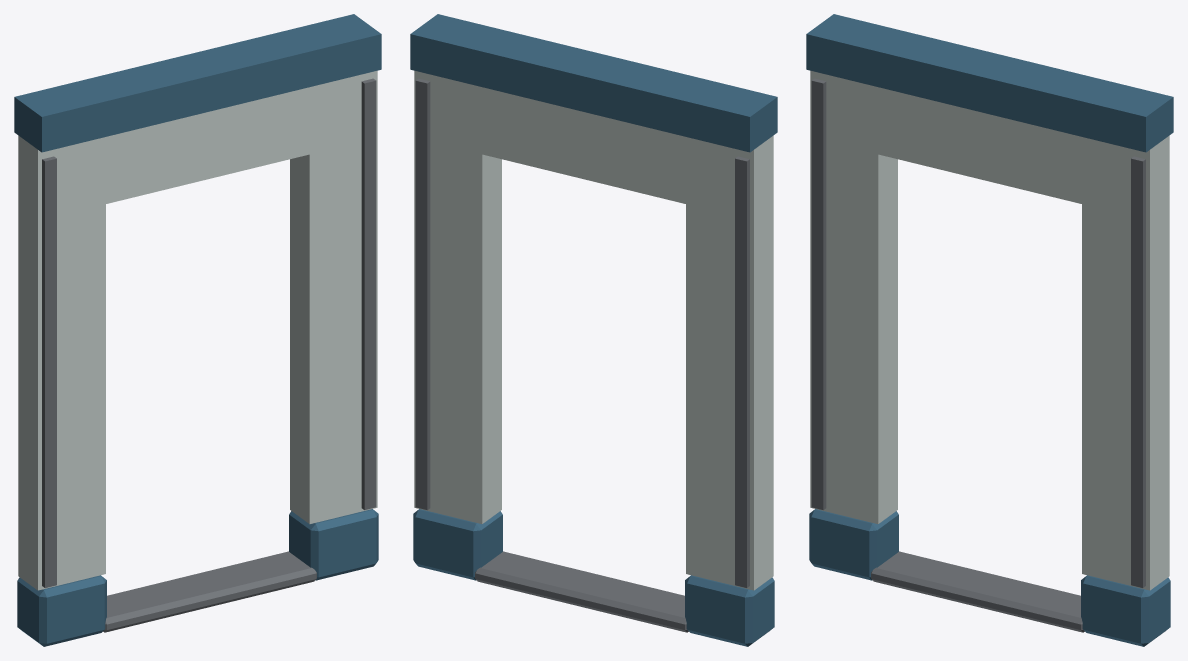
Rendered from installation-sensor-wall-door.glb.
The picture shows the model from 3 angles, left to right: view 1: azimuth 30°, elevation 25°; view 2: azimuth 150°, elevation 25°; view 3: azimuth 330°, elevation 25°; orthographic projection.
Parts seen in each view (by area): view 1: jamb_l, jamb_r, cornice, lintel, threshold, panel_joint.002, panel_joint, plinth_l, plinth_r; view 2: jamb_l, jamb_r, cornice, lintel, threshold, panel_joint.003, panel_joint.001, plinth_l, plinth_r; view 3: jamb_r, jamb_l, cornice, lintel, threshold, panel_joint, panel_joint.002, plinth_r, plinth_l.
Part boxes in pixels (x1,y1,x2,y2): jamb_l: (18, 135, 105, 590); jamb_r: (290, 70, 377, 523); cornice: (14, 14, 381, 152); lintel: (106, 87, 309, 203); threshold: (103, 551, 316, 632); panel_joint.002: (361, 78, 376, 510); panel_joint: (42, 156, 56, 587); plinth_l: (17, 575, 106, 646); plinth_r: (289, 509, 378, 580); jamb_l: (686, 135, 773, 590); jamb_r: (414, 70, 501, 523); cornice: (410, 14, 777, 152); lintel: (482, 87, 685, 203); threshold: (475, 551, 688, 632); panel_joint.003: (415, 78, 430, 510); panel_joint.001: (735, 156, 749, 587); plinth_l: (685, 575, 774, 646); plinth_r: (413, 509, 502, 580); jamb_r: (1082, 135, 1169, 590); jamb_l: (810, 70, 897, 523); cornice: (806, 14, 1173, 152); lintel: (878, 87, 1081, 203); threshold: (871, 551, 1084, 632); panel_joint: (811, 78, 826, 510); panel_joint.002: (1131, 156, 1145, 587); plinth_r: (1081, 575, 1170, 646); plinth_l: (809, 509, 898, 580).
Bounding box in the file's own units: 1 × 1.5 × 0.14.
